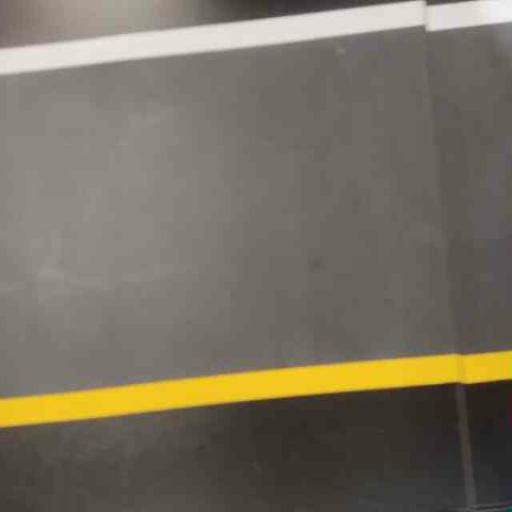straight: (0, 0, 418, 443)
